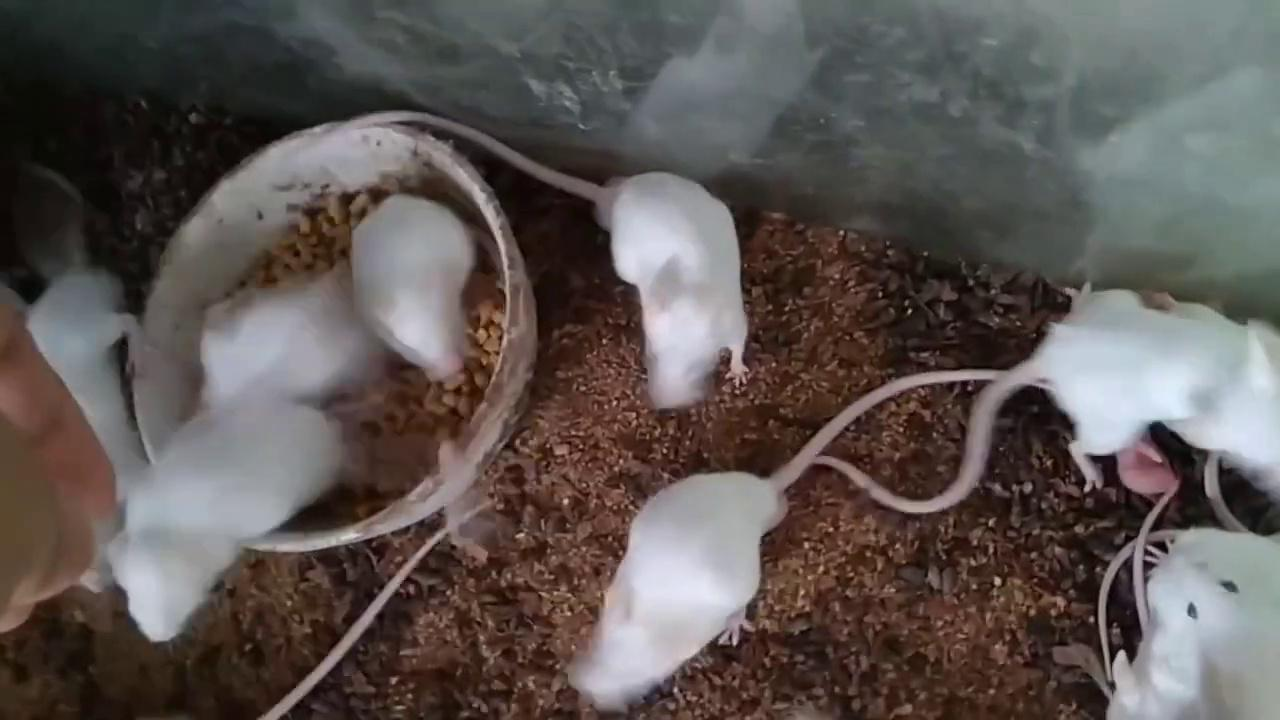rat: (565, 367, 1052, 712), (301, 109, 755, 411), (811, 282, 1280, 513), (113, 408, 343, 642), (27, 272, 156, 500), (351, 194, 478, 377), (1166, 558, 1280, 720)
